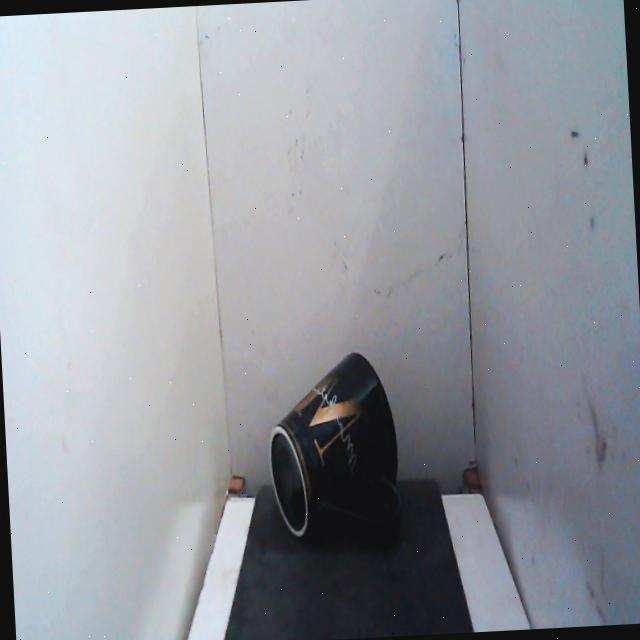vidro: (259, 334, 411, 571)
